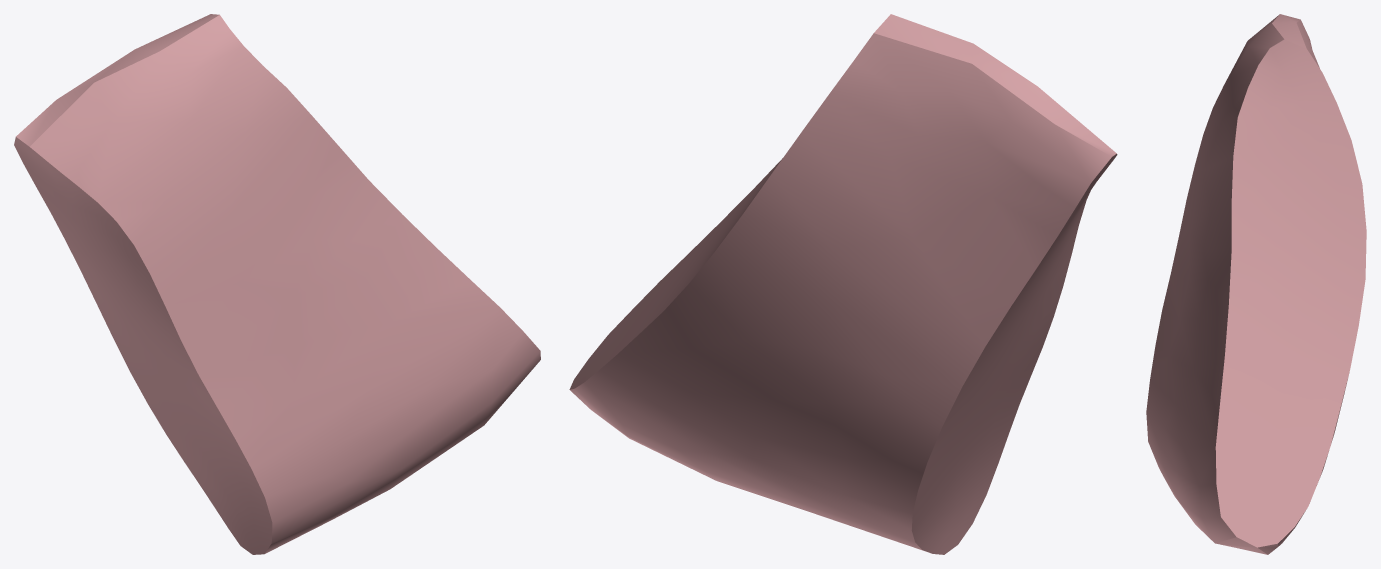
Rendered from fma39297-n_mm1943.glb.
3 views of the same model, side by side, from view 1: azimuth 30°, elevation 25°; view 2: azimuth 150°, elevation 25°; view 3: azimuth 270°, elevation 25° (orthographic). The views are drawn at different scales.
Visible parts, largest first — view 1: FMA39297-N_MM1943; view 2: FMA39297-N_MM1943; view 3: FMA39297-N_MM1943.
Part boxes in pixels (x1,y1,x2,y2): FMA39297-N_MM1943: (14,14,540,554); FMA39297-N_MM1943: (569,14,1117,554); FMA39297-N_MM1943: (1146,14,1366,554).
Bounding box in the file's own units: 0.0145 × 0.014 × 0.00605.
